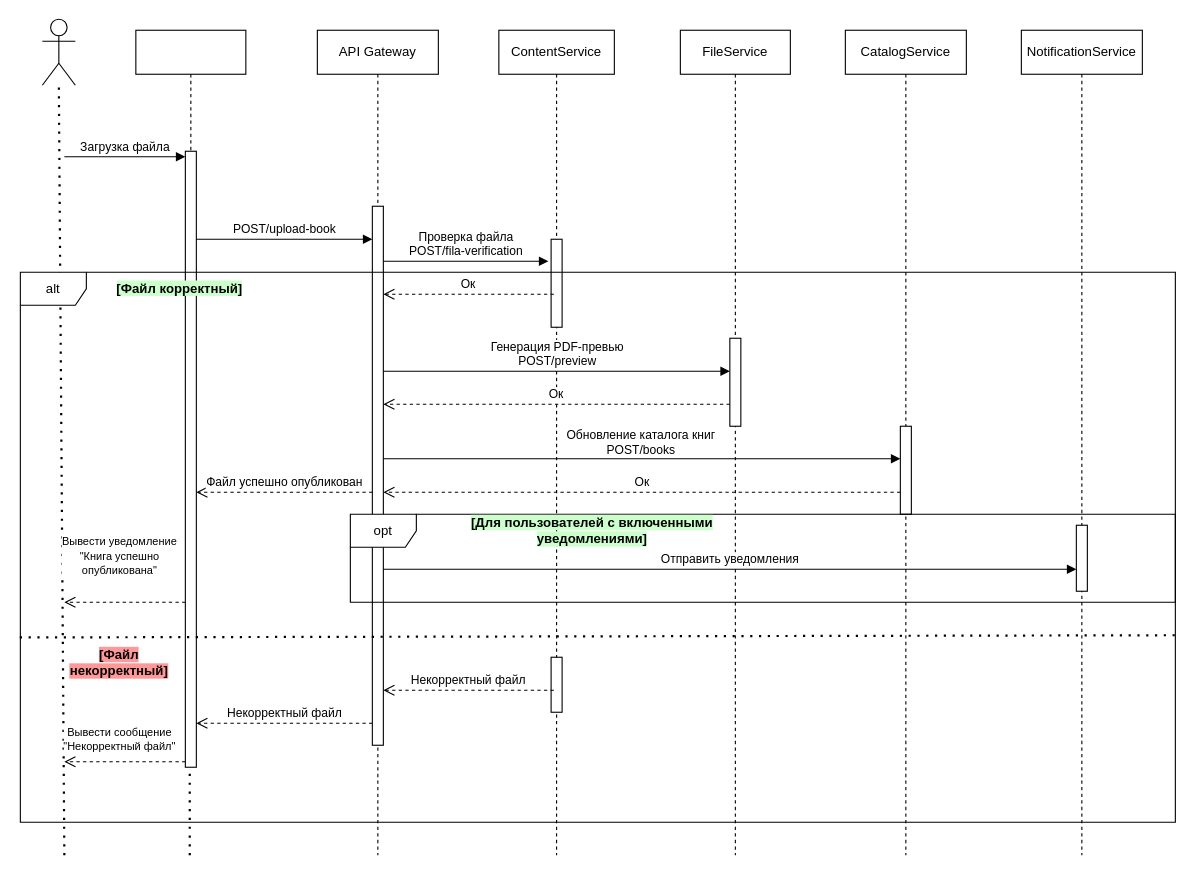
Image size: 1197x877. Some labels were removed from this diagram. Here are the shapes that lost their labels. From the top down, the centre of each, then its label:
At pixel 58 51: "Админ".
At pixel 190 90: "UI".
